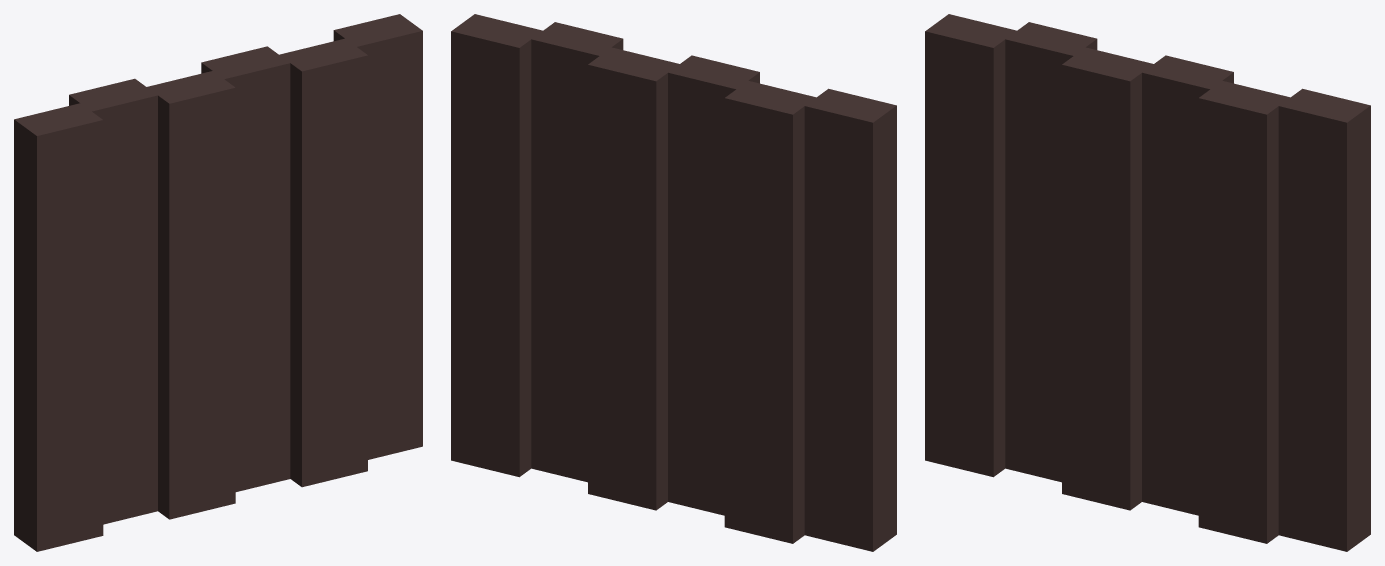
The model's file is wall.fbx.
3 views of the same model, side by side, from view 1: azimuth 30°, elevation 25°; view 2: azimuth 150°, elevation 25°; view 3: azimuth 330°, elevation 25° (orthographic). The views are drawn at different scales.
Parts seen in each view (by area): view 1: Wall; view 2: Wall; view 3: Wall.
Boxes of the visible parts, x1=… form: Wall: x1=14, y1=14, x2=422, y2=551; Wall: x1=451, y1=14, x2=896, y2=551; Wall: x1=925, y1=14, x2=1370, y2=551.
Bounding box in the file's own units: 400 × 400 × 60.
